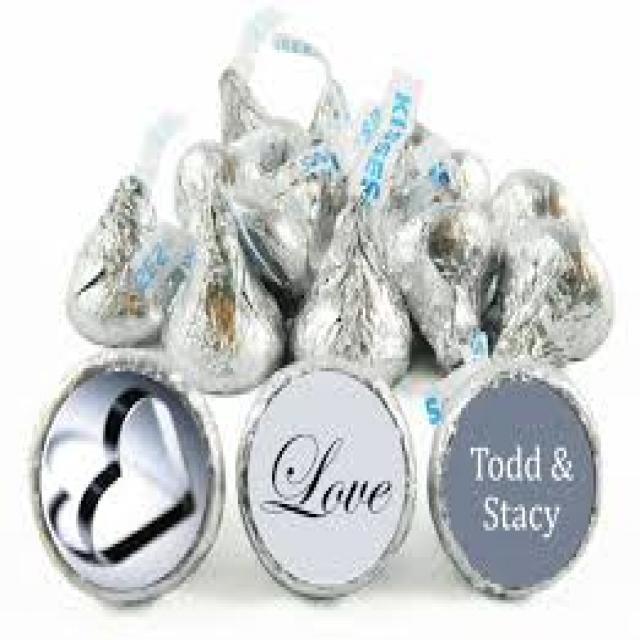kisses: (156, 186, 289, 395), (55, 164, 186, 358), (289, 191, 415, 388), (480, 211, 617, 390), (384, 200, 504, 368), (206, 64, 312, 192)
